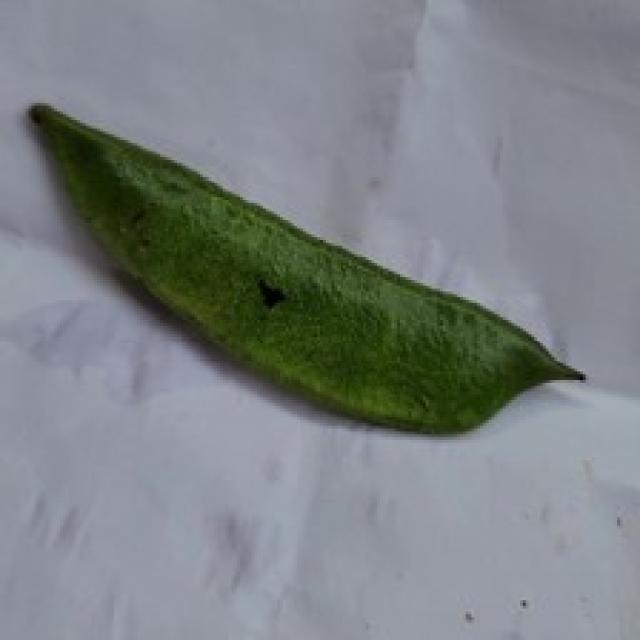Bean: (26, 97, 586, 437)
